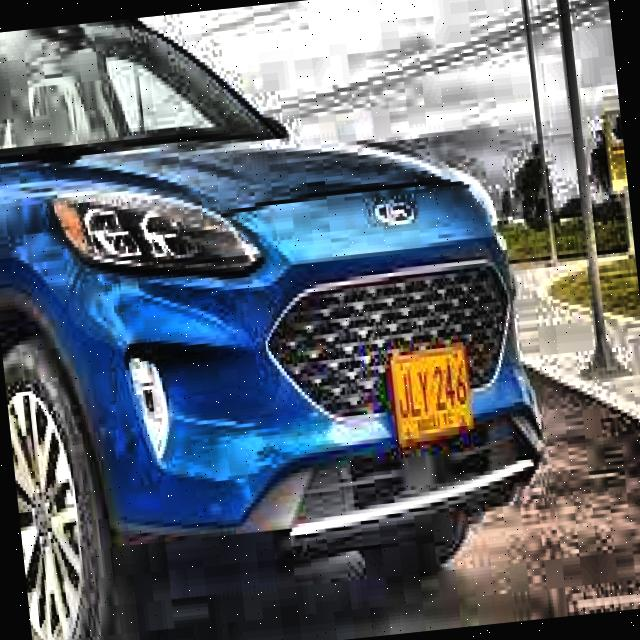plate: (392, 345, 472, 443)
